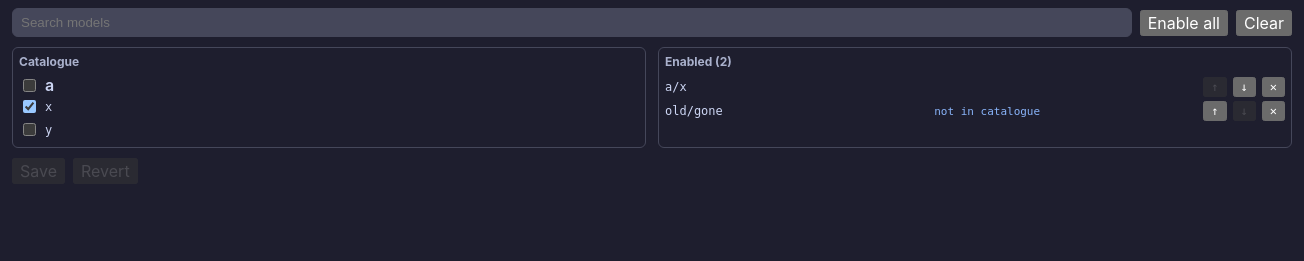
Scenario: ScopedModelsSettings › shows enabled list, and saves only enabledModels
Check: the text "old/gone" is shown, box [665,104,723,118]
Check: the text "not in catalogue" is shown, box [934,104,1040,118]
Click the button named "Remove a/x".
click(1273, 87)  # box [1262,77,1285,97]
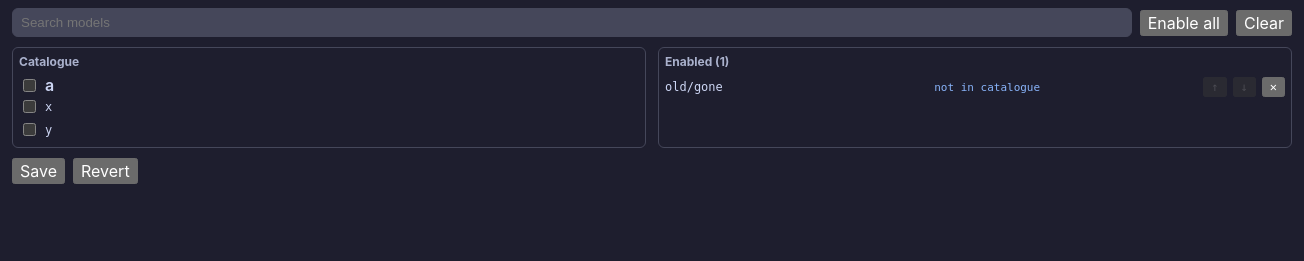
Click the checkbox labelled "y".
click(30, 130)  # box [23,123,36,136]
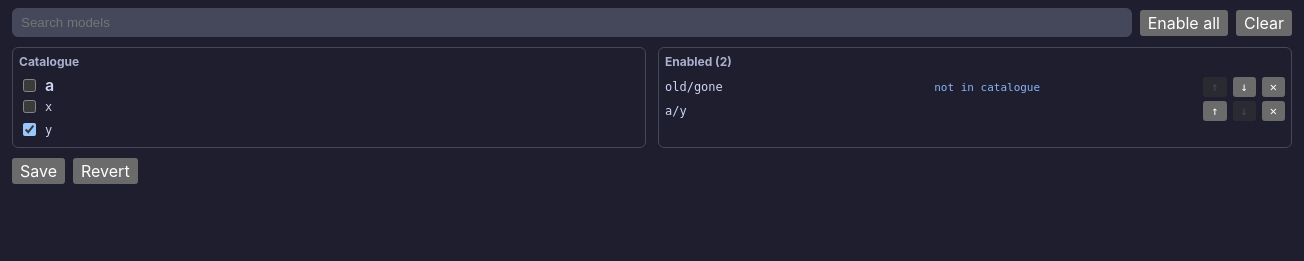
Click the button "Save".
click(38, 171)  # box [12,158,65,184]
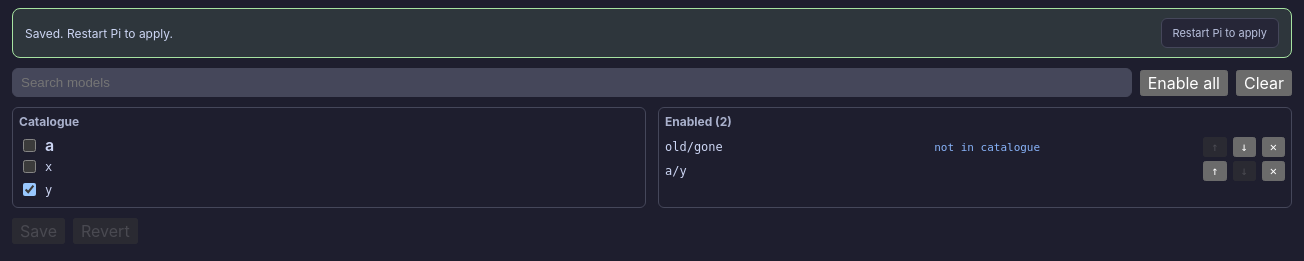
Check: the button "Restart Pi to apply" is shown, box [1160,18,1279,48]
